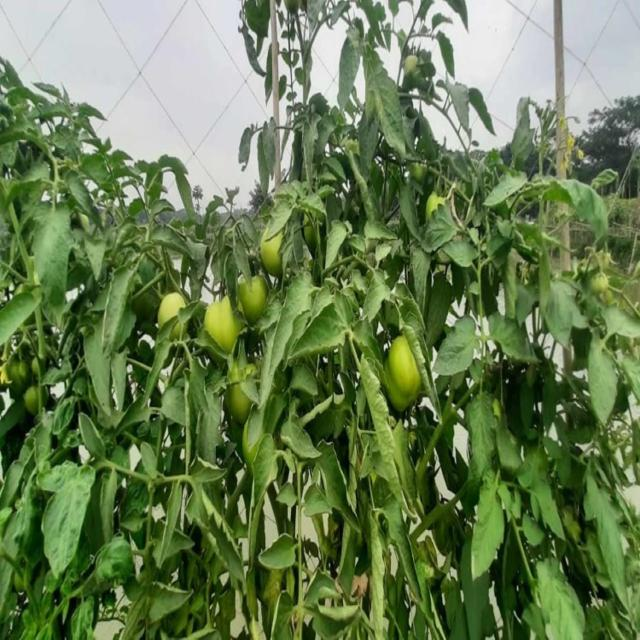tomato: (375, 333, 427, 404), (203, 295, 247, 357), (257, 222, 303, 277), (234, 272, 272, 321), (233, 377, 261, 425), (425, 185, 449, 219), (158, 290, 181, 322), (405, 49, 428, 80), (17, 387, 41, 416)
